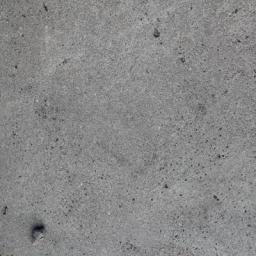FOD: (28, 225, 52, 250)
